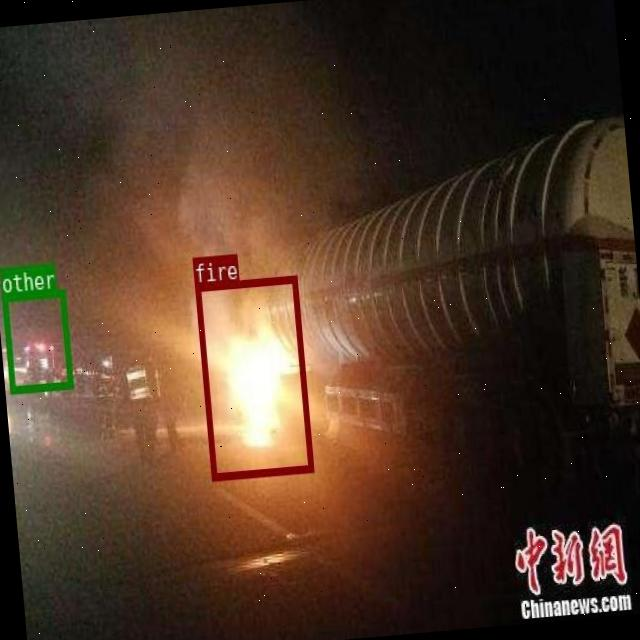fire: (194, 275, 312, 479)
